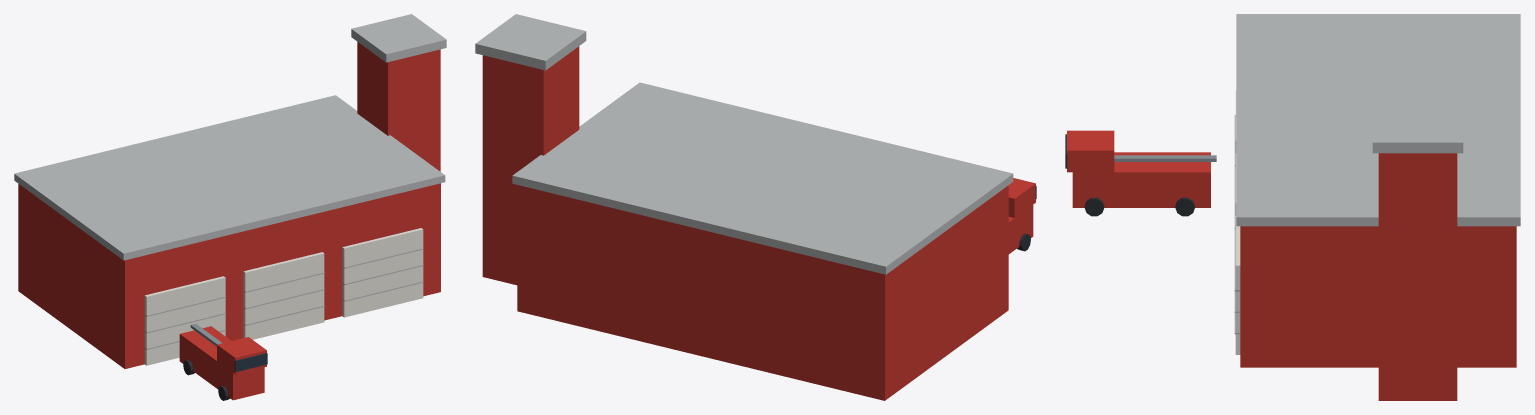
File: fire_station.glb
The picture shows the model from 3 angles, left to right: view 1: azimuth 30°, elevation 25°; view 2: azimuth 150°, elevation 25°; view 3: azimuth 270°, elevation 25°; orthographic projection. The views are drawn at different scales.
Parts seen in each view (by area): view 1: Cube.001; view 2: Cube.001; view 3: Cube.001.
Boxes of the visible parts, x1,y1,x2,y2 form: Cube.001: (14, 14, 446, 400); Cube.001: (475, 14, 1036, 400); Cube.001: (1065, 14, 1520, 400).
Size of the model in its own units: 28.5 by 14.6 by 23.07.
